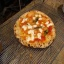basil: (34, 24, 50, 39), (32, 16, 45, 25)
pizza: (13, 12, 52, 49)
